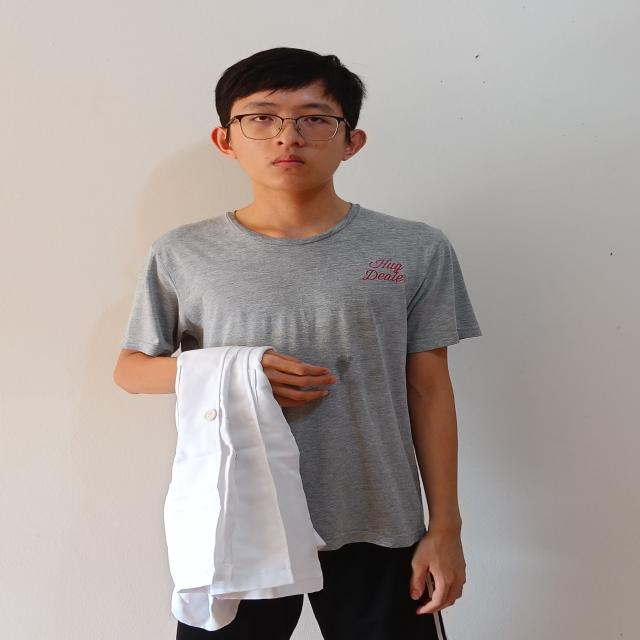person_without_labcoat: (114, 48, 481, 640)
